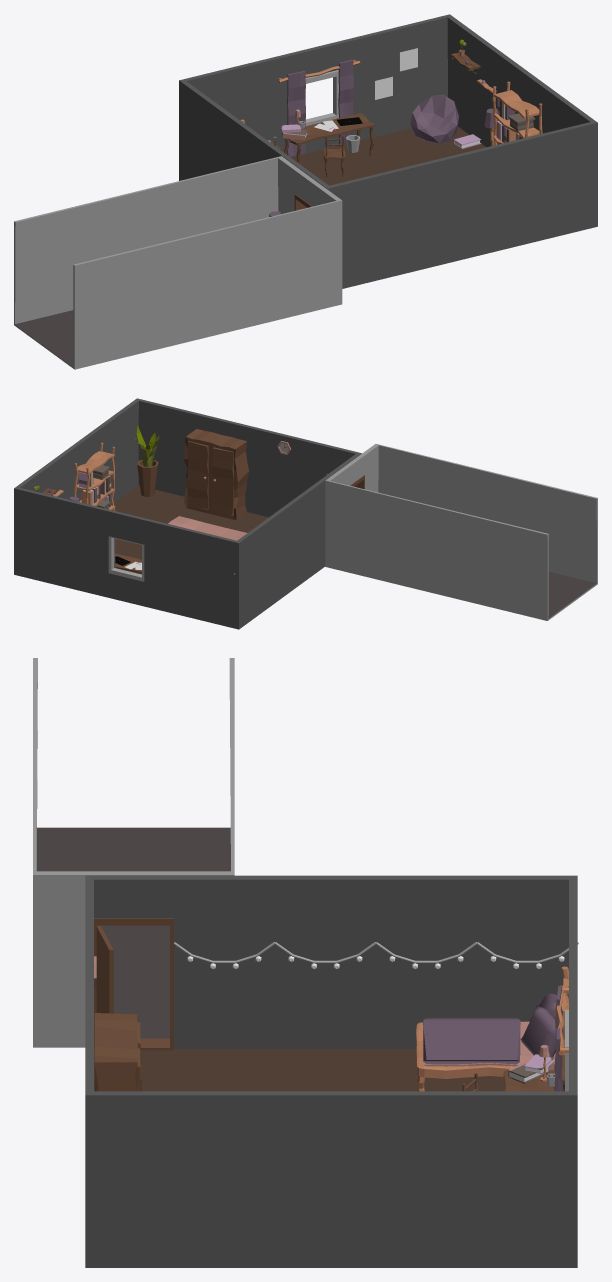
File: room_norah_new.fbx
3 renders of one model, top to bottom at view 1: azimuth 30°, elevation 25°; view 2: azimuth 150°, elevation 25°; view 3: azimuth 270°, elevation 25°, orthographic. The views are drawn at different scales.
Visible parts, largest first — view 1: Room_1, Hallway, Seat_Thingy, Shelf, Curtain, Curtain.001, Table, Window_Frame; view 2: Room_1, Hallway, Cabinet, Shelf, Rug, Window_Frame, Pot.001; view 3: Room_1, Hallway, Blanket, Cabinet, Bed, Door_Frame, Fairylights.001, Door, Pillow.001.
Boxes of the visible parts, x1=… form: Room_1: x1=179, y1=14, x2=597, y2=288; Hallway: x1=14, y1=156, x2=342, y2=369; Seat_Thingy: x1=410, y1=94, x2=459, y2=143; Shelf: x1=492, y1=81, x2=542, y2=145; Curtain: x1=287, y1=71, x2=305, y2=156; Curtain.001: x1=338, y1=59, x2=354, y2=144; Table: x1=282, y1=113, x2=375, y2=144; Window_Frame: x1=305, y1=70, x2=338, y2=126; Room_1: x1=14, y1=398, x2=361, y2=629; Hallway: x1=325, y1=444, x2=597, y2=620; Cabinet: x1=183, y1=429, x2=248, y2=520; Shelf: x1=74, y1=442, x2=115, y2=510; Rug: x1=168, y1=516, x2=247, y2=540; Window_Frame: x1=108, y1=536, x2=144, y2=581; Pot.001: x1=137, y1=460, x2=158, y2=496; Room_1: x1=85, y1=875, x2=577, y2=1267; Hallway: x1=33, y1=658, x2=234, y2=1047; Blanket: x1=423, y1=1018, x2=520, y2=1064; Cabinet: x1=94, y1=1013, x2=142, y2=1091; Bed: x1=416, y1=1021, x2=555, y2=1078; Door_Frame: x1=94, y1=918, x2=173, y2=1050; Fairylights.001: x1=173, y1=942, x2=578, y2=963; Door: x1=96, y1=926, x2=113, y2=1013; Pillow.001: x1=520, y1=1005, x2=556, y2=1056.
Size of the model in its own units: 2985 by 560 by 1576.
